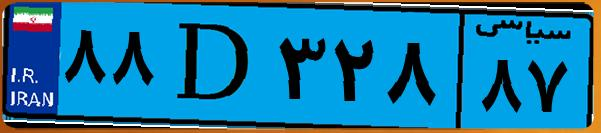2: (330, 28, 385, 110)
3: (270, 28, 330, 110)
7: (525, 38, 570, 115)
8: (385, 28, 445, 110), (57, 26, 110, 100), (475, 38, 525, 113), (110, 28, 158, 98)
D: (158, 12, 270, 120)
